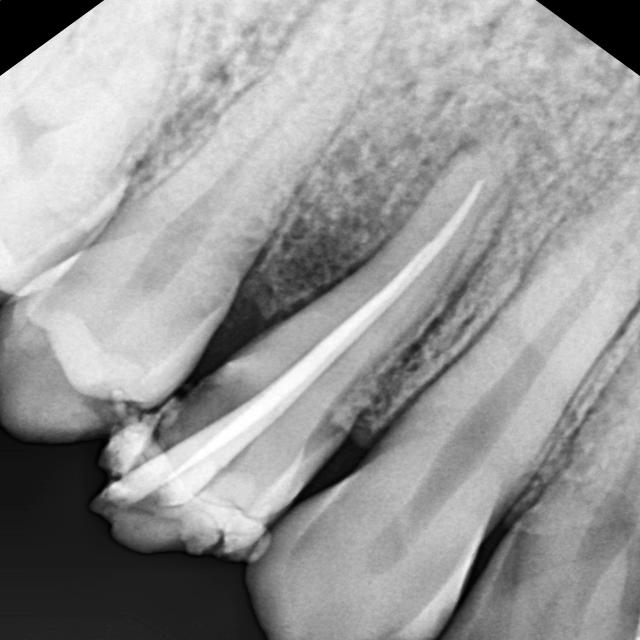RCT: (370, 151, 560, 282)
